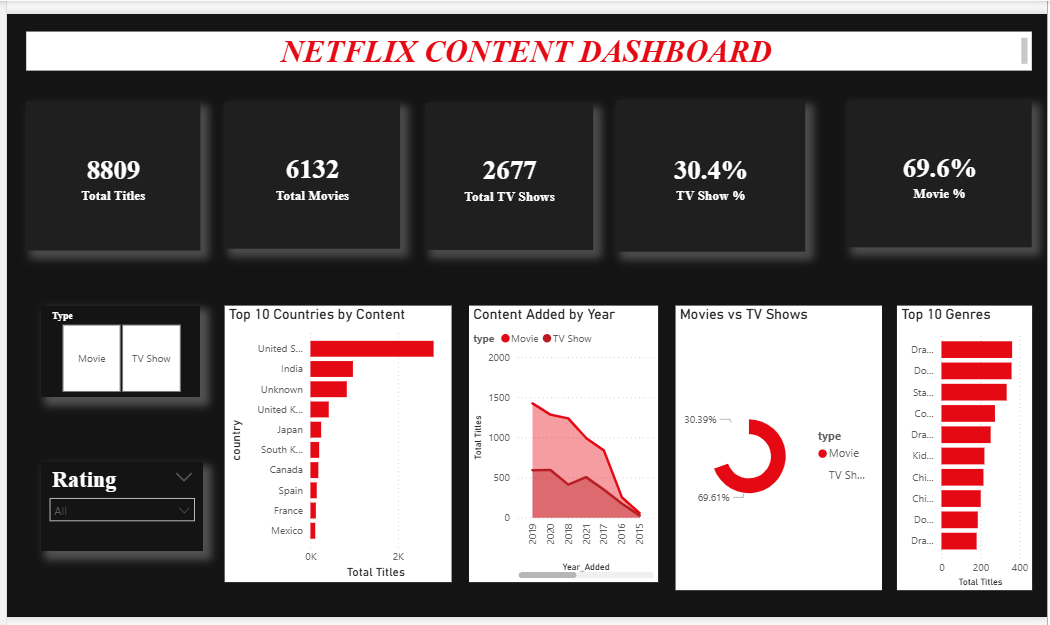

Layout of this report page (visuals, bound fields, positions):
{"tool":"powerbi","page":{"name":"Page 1","canvas":[1280,720],"ordinal":0},"visuals":[{"type":"card","fields":{"Values":["netflix_titles.Total Titles"]},"box":[51.6,104.8,208.1,177.4],"z":0},{"type":"card","fields":{"Values":["netflix_titles.Total Movies"]},"box":[288.7,104.8,209.7,175.8],"z":1000},{"type":"card","fields":{"Values":["netflix_titles.Total TV Shows"]},"box":[529,106.5,200,175.8],"z":2000},{"type":"card","fields":{"Values":["netflix_titles.Movie %"]},"box":[1032.3,103.2,221,175.8],"z":3000},{"type":"card","fields":{"Values":["netflix_titles.TV Show %"]},"box":[756.5,103.2,225.8,180.6],"z":4000},{"type":"textbox","box":[51.6,21,1201.6,46.8],"z":5000},{"type":"slicer","fields":{"Values":["netflix_titles.type"]},"box":[69.4,348.4,190.3,109.7],"z":6000},{"type":"slicer","fields":{"Values":["netflix_titles.rating"]},"box":[69.4,535.5,193.5,106.5],"z":7000},{"type":"areaChart","title":"Content Added by Year","fields":{"Category":["netflix_titles.Year_Added"],"Series":["netflix_titles.type"],"Y":["netflix_titles.Total Titles"]},"box":[580.6,348.4,225.8,330.6],"z":8000},{"type":"barChart","title":"Top 10 Countries by Content","fields":{"Category":["netflix_titles.country"],"Y":["netflix_titles.Total Titles"]},"box":[288.7,348.4,271,330.6],"z":9000},{"type":"donutChart","title":"Movies vs TV Shows","fields":{"Category":["netflix_titles.type"],"Y":["netflix_titles.Total Titles"]},"box":[827.4,348.4,246.8,340.3],"z":10000},{"type":"clusteredBarChart","title":"Top 10 Genres","fields":{"Category":["netflix_titles.listed_in"],"Y":["netflix_titles.Total Titles"]},"box":[1091.9,348.4,161.3,340.3],"z":11000}]}

Visuals, with their boxes in screenshot pixels (x1, y1, x2, y2):
card - netflix_titles.Total Titles: detection(21, 99, 196, 248)
card - netflix_titles.Total Movies: detection(220, 99, 396, 246)
card - netflix_titles.Total TV Shows: detection(422, 100, 590, 248)
card - netflix_titles.Movie %: detection(844, 97, 1029, 245)
card - netflix_titles.TV Show %: detection(613, 97, 802, 249)
textbox: detection(21, 29, 1029, 68)
slicer - netflix_titles.type: detection(36, 303, 196, 395)
slicer - netflix_titles.rating: detection(36, 460, 199, 549)
"Content Added by Year" areaChart: detection(465, 303, 654, 580)
"Top 10 Countries by Content" barChart: detection(220, 303, 448, 580)
"Movies vs TV Shows" donutChart: detection(672, 303, 879, 589)
"Top 10 Genres" clusteredBarChart: detection(894, 303, 1029, 589)
